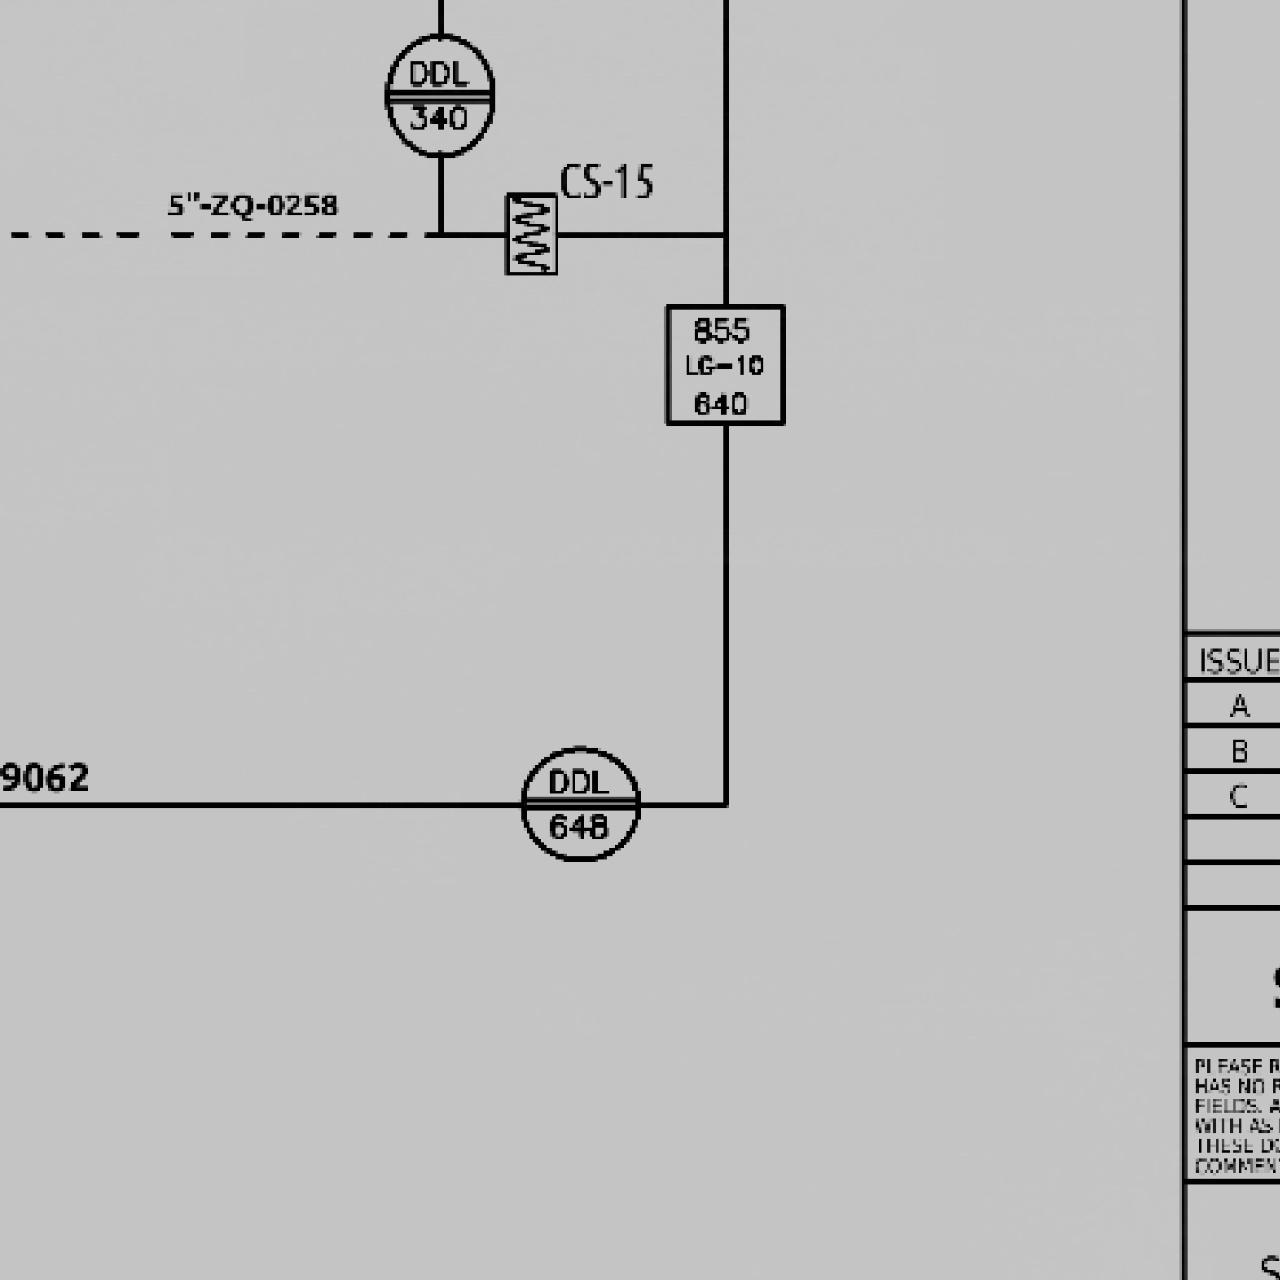Control-Panel: (373, 28, 506, 162), (515, 738, 644, 869)
